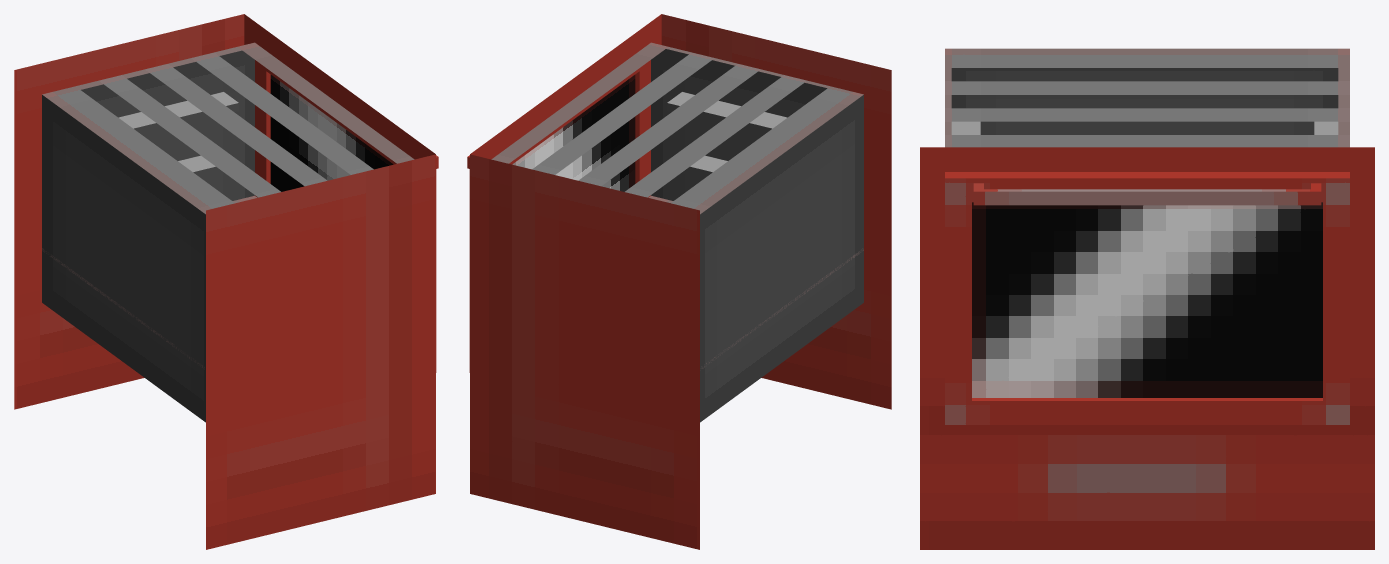
The model's file is Oven.fbx.
3 views of the same model, side by side, from view 1: azimuth 30°, elevation 25°; view 2: azimuth 150°, elevation 25°; view 3: azimuth 270°, elevation 25° (orthographic). The views are drawn at different scales.
Visible parts, largest first — view 1: Oven, OvenGlass, OvenDoor, OvenGrill; view 2: Oven, OvenGlass, OvenDoor; view 3: Oven, OvenGlass, OvenDoor.
Part boxes in pixels (x1,y1,x2,y2): Oven: (14, 14, 435, 549); OvenGlass: (270, 75, 393, 191); OvenDoor: (255, 60, 438, 372); OvenGrill: (42, 195, 257, 369); Oven: (470, 14, 891, 549); OvenGlass: (512, 75, 635, 191); OvenDoor: (467, 60, 650, 372); Oven: (920, 48, 1374, 549); OvenGlass: (972, 202, 1322, 397); OvenDoor: (945, 172, 1349, 424).
Bounding box in the file's own units: 112 × 142 × 145.
Materials: 1 (1 with a texture image).
